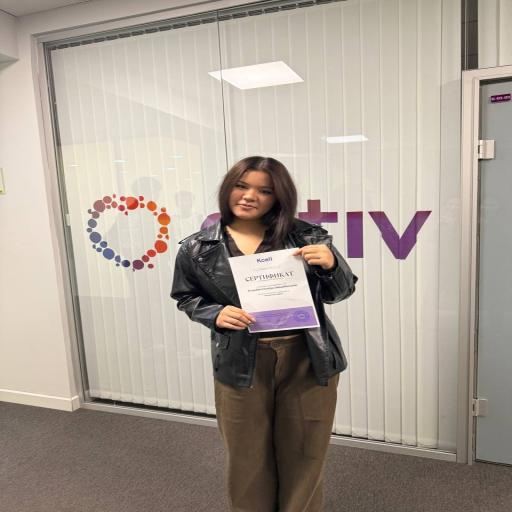crosswalk: (171, 156, 357, 512)
